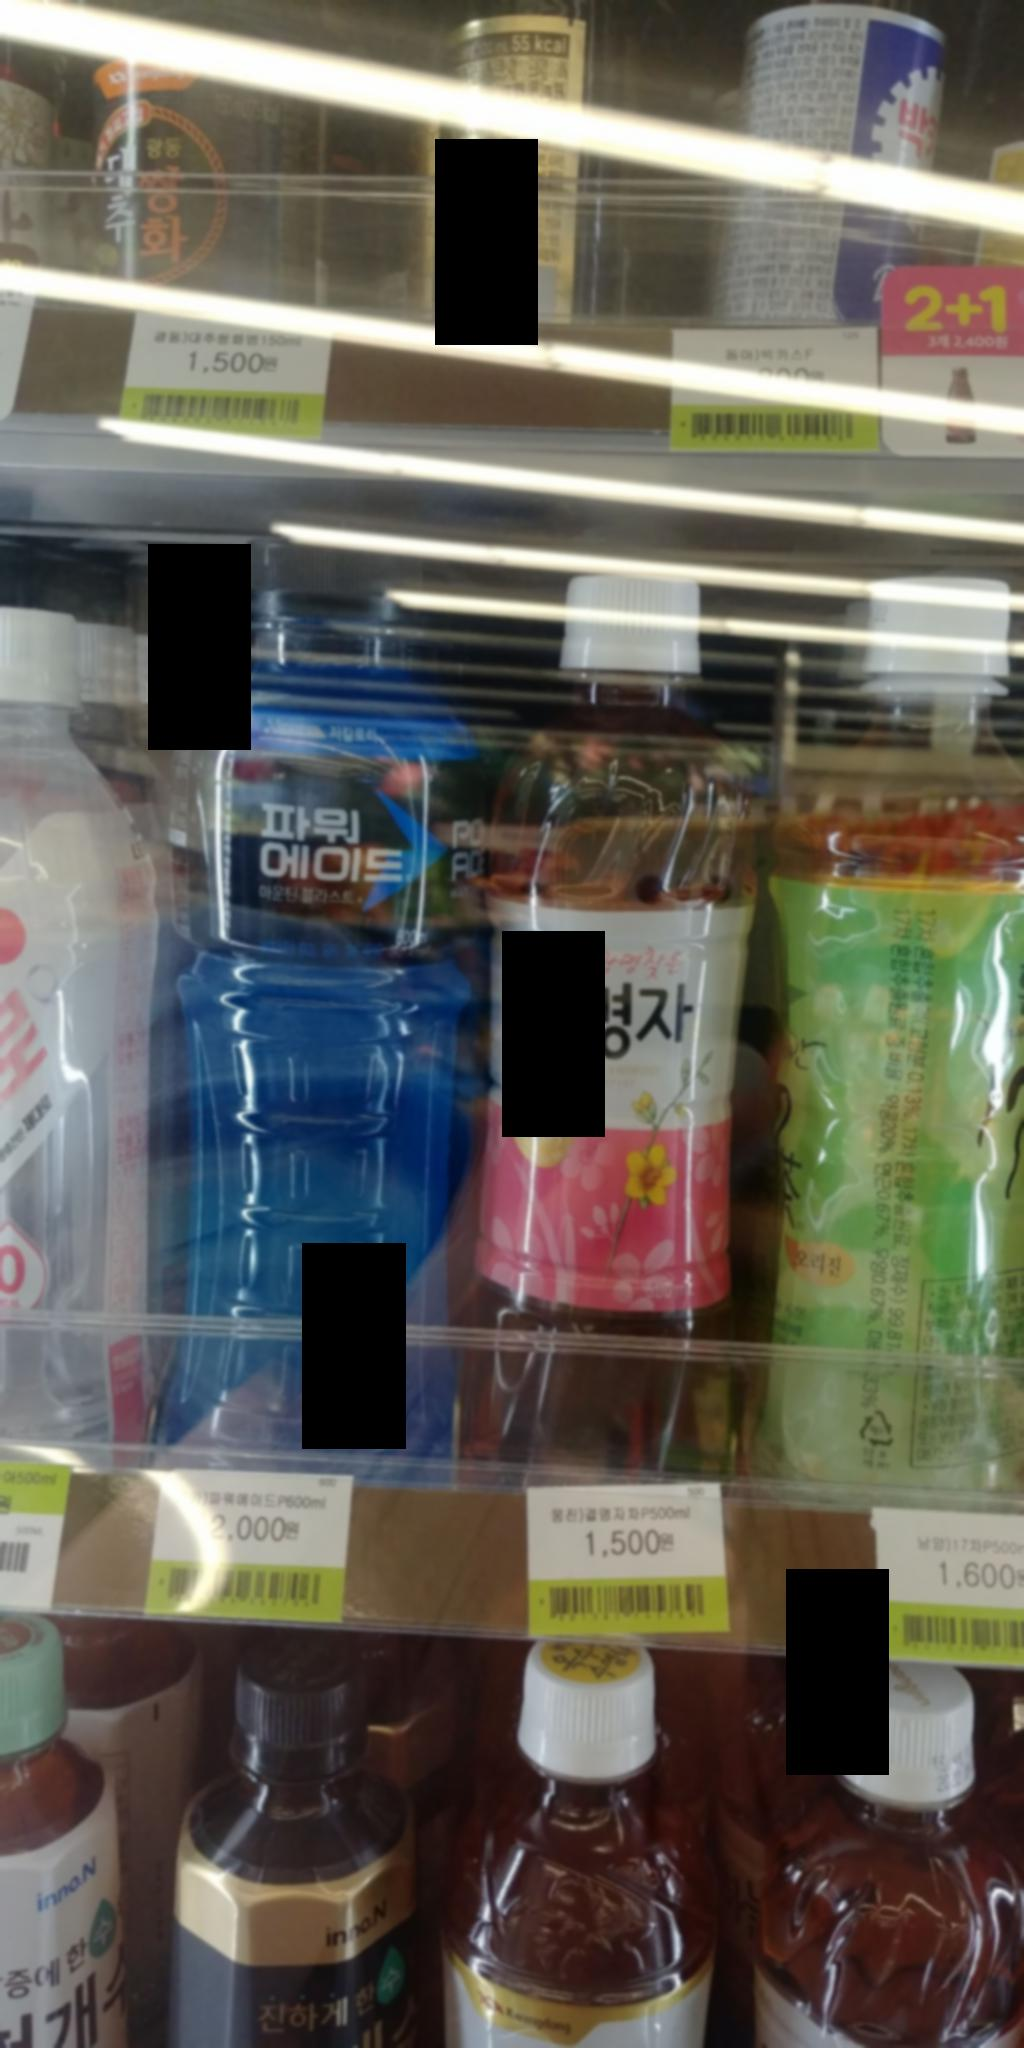powerade_mountainblast: (141, 522, 498, 1494)
